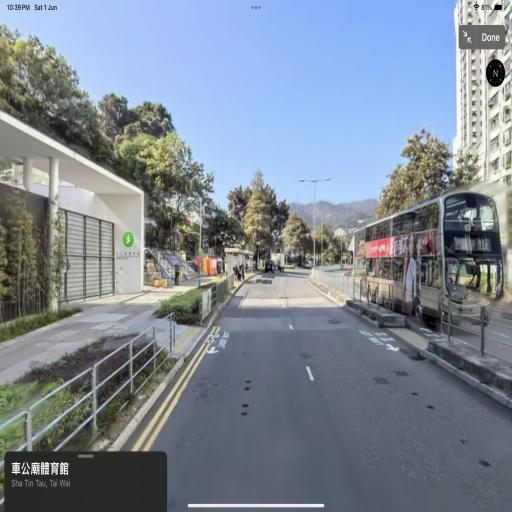Roads: (105, 256, 493, 490)
Trees: (113, 83, 211, 299), (217, 130, 318, 273)
